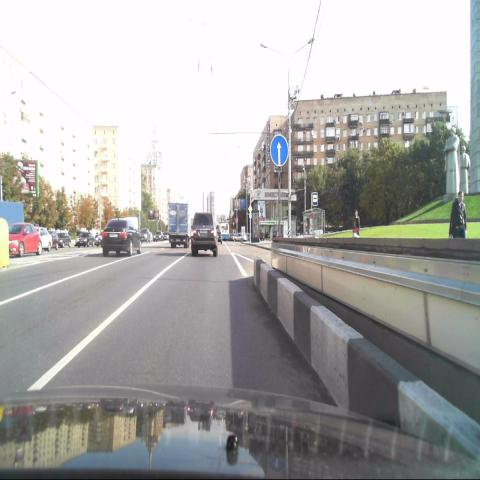4_1_1: (270, 133, 288, 167)
5_16: (312, 191, 318, 207)
